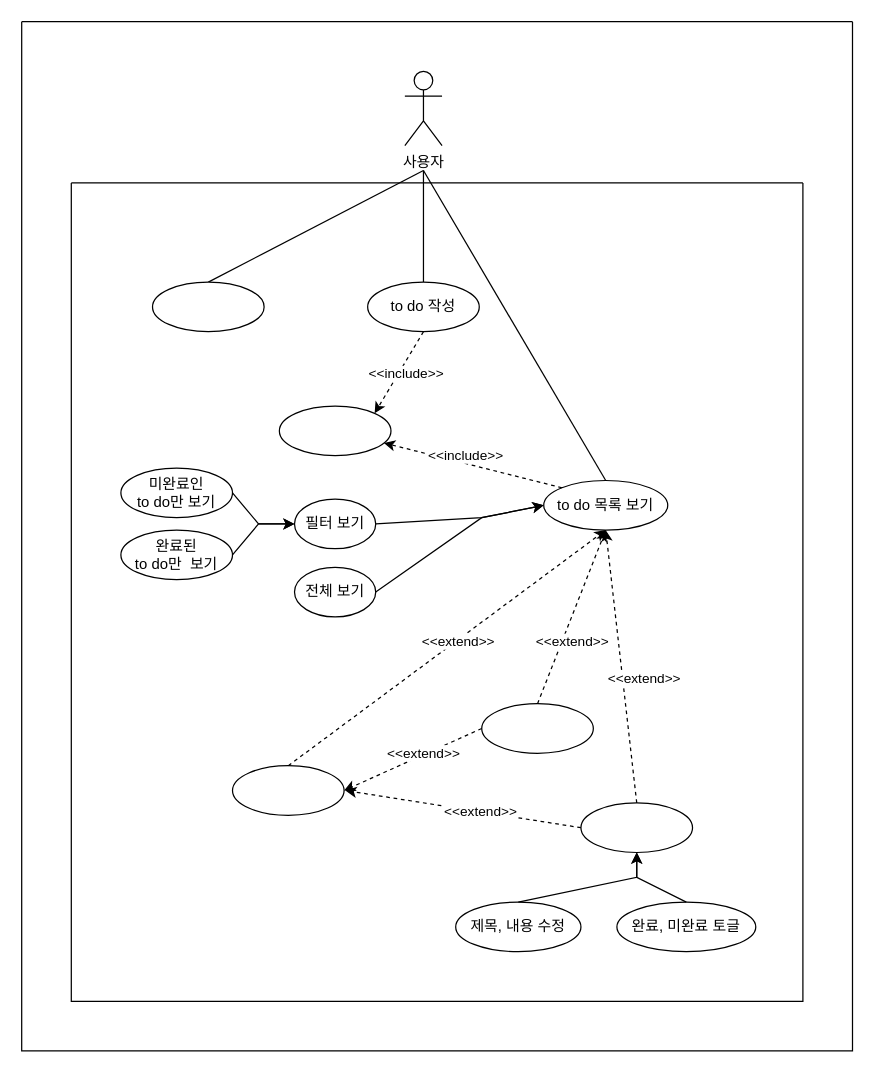
This 874x1073 diagram has some shape labels left out. The centre of each missing label's shape, as x and y in pixels:
to do 삭제: [536,727]
to do 상세보기: [287,789]
to do 수정: [636,827]
로그인: [334,430]
회원가입: [207,306]
